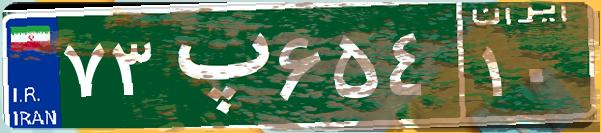0: (525, 38, 570, 115)
1: (475, 38, 525, 113)
3: (110, 28, 158, 105)
4: (385, 28, 445, 110)
5: (330, 28, 385, 110)
6: (273, 28, 330, 110)
7: (57, 26, 110, 107)
پ: (158, 15, 273, 115)
